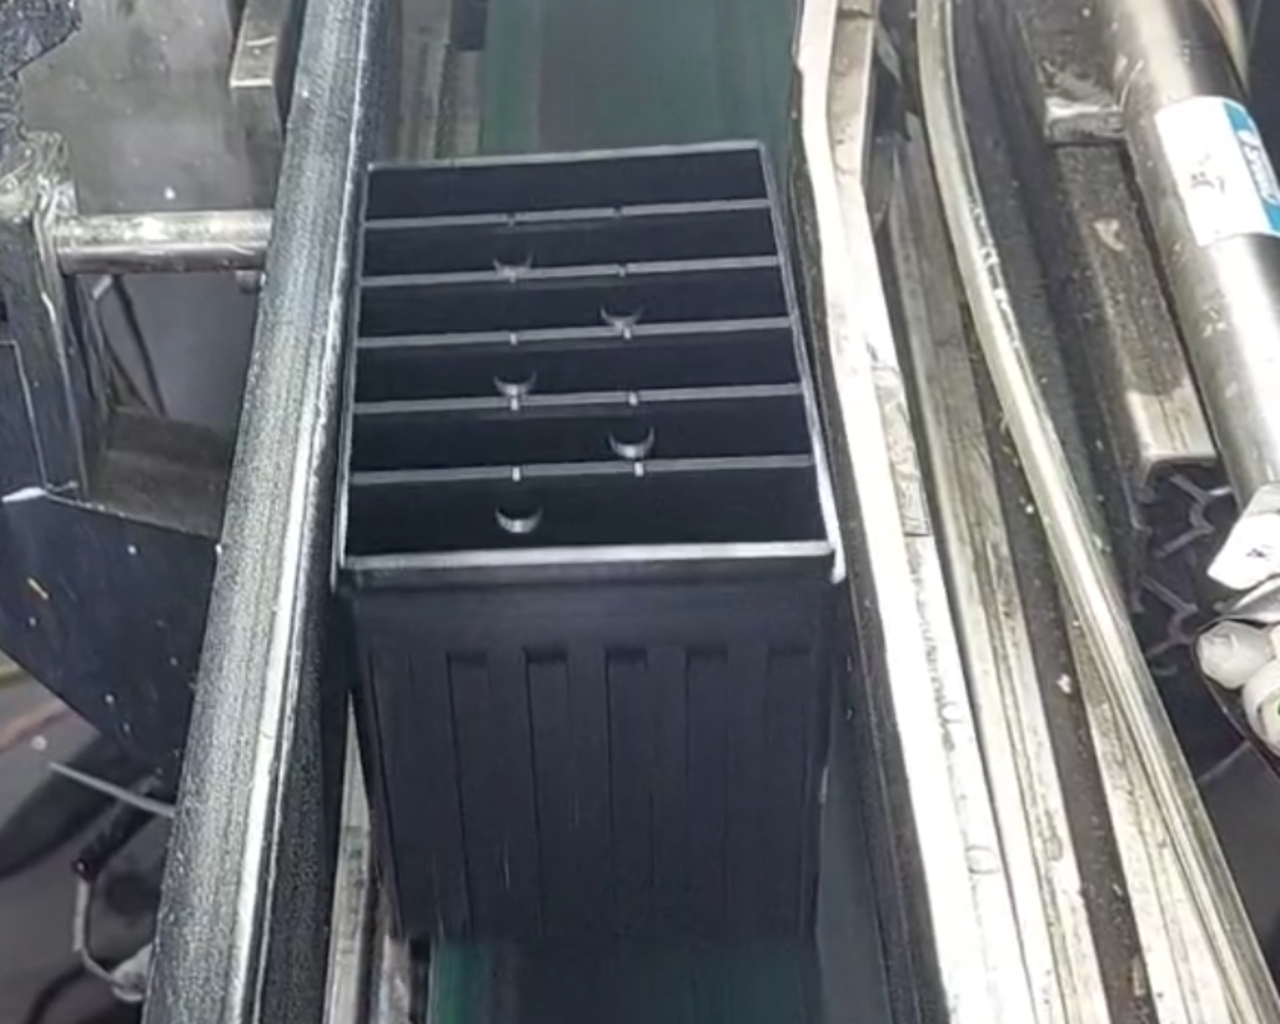box: (318, 126, 860, 608)
round: (482, 484, 554, 538), (604, 414, 664, 464), (485, 354, 544, 399), (592, 284, 649, 331), (483, 231, 540, 275)
